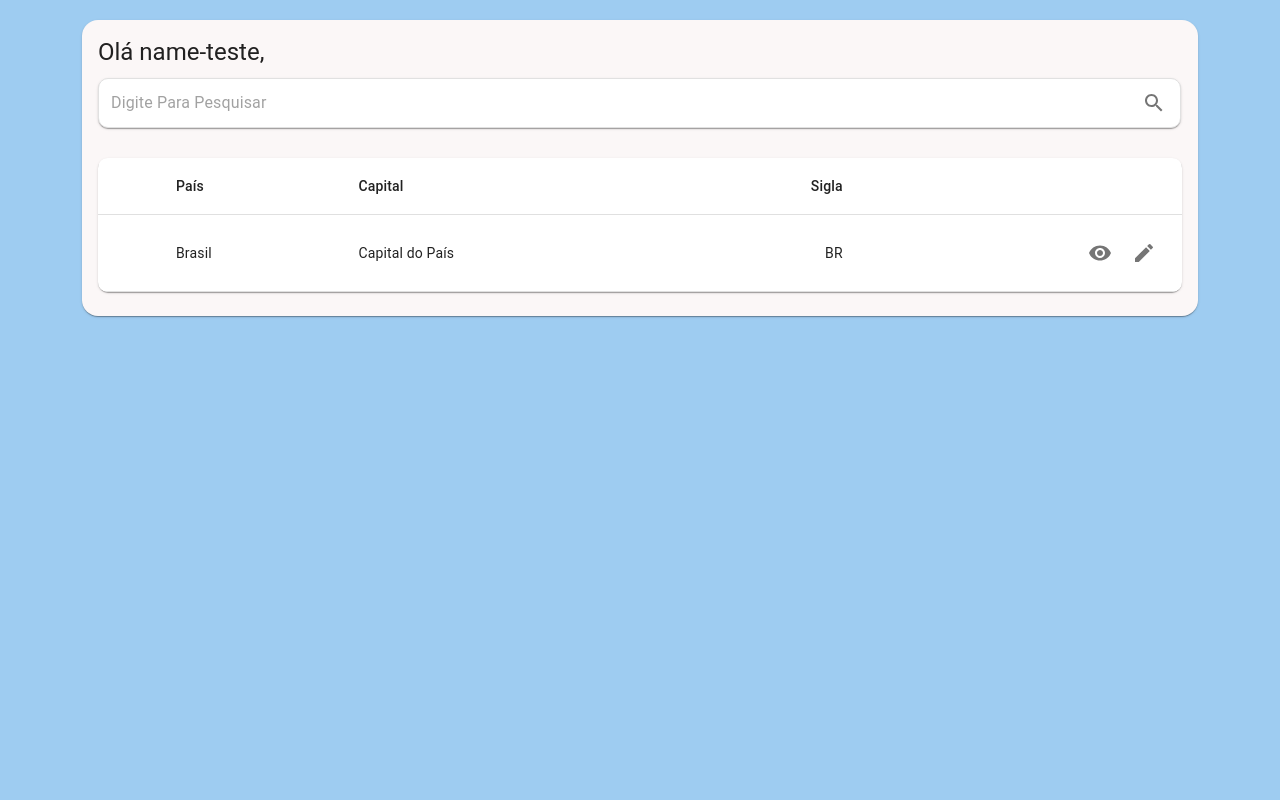
Test: When entering the flags page › When clicking on edit you must open modal
Type "Brasil" into the field with test id "inputFlagsSearch" at (622, 103), box [111, 87, 1132, 119]
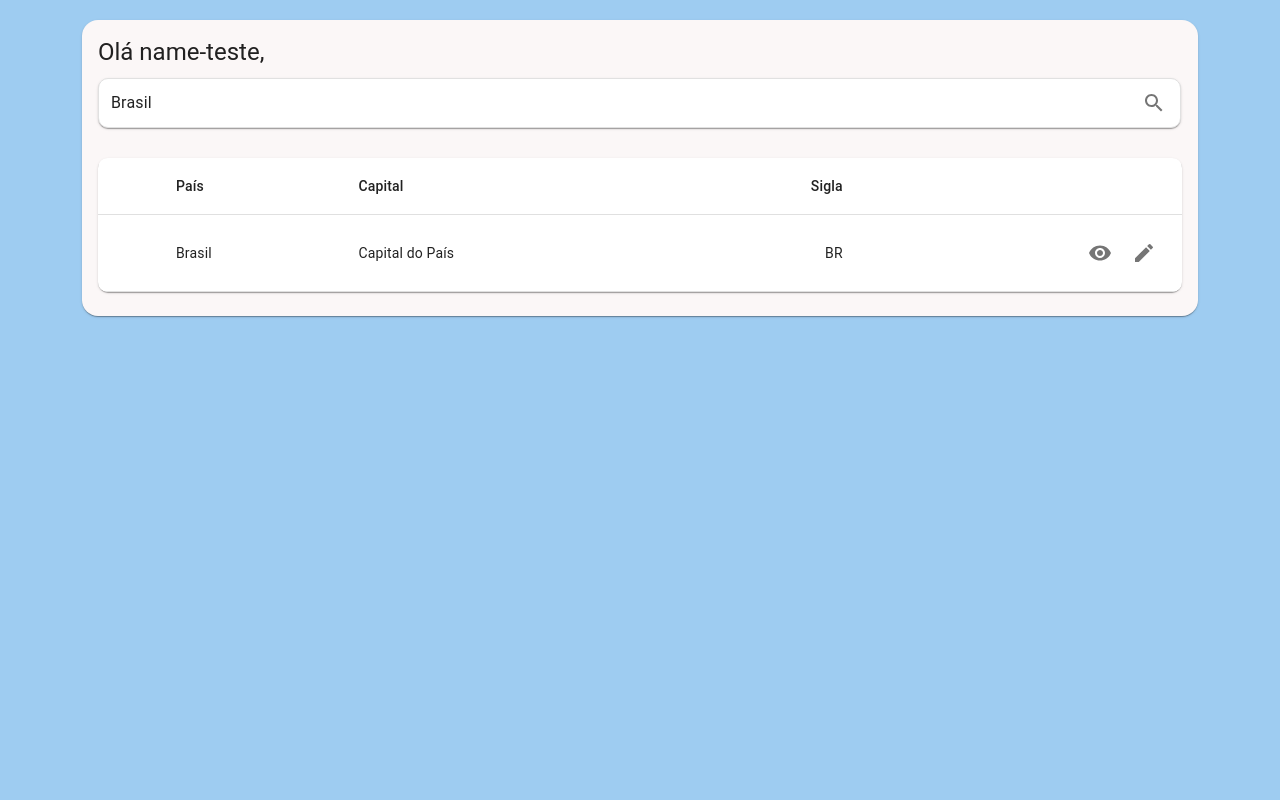
Click the button with test id "ButtonEdit-Brasil" at (1144, 253), box [1122, 231, 1166, 275]
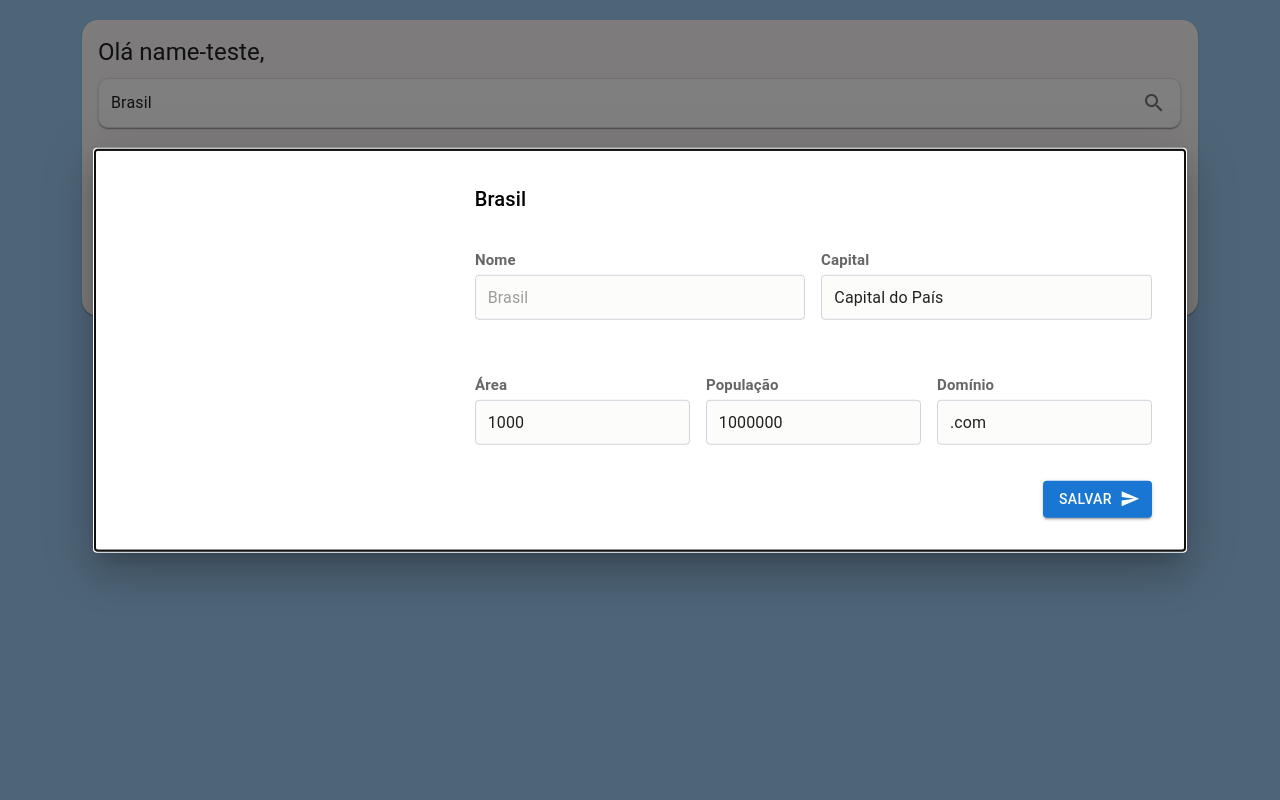
Expected: the element with test id "Modal-Brasil" is shown, [0, 350, 1279, 799]
